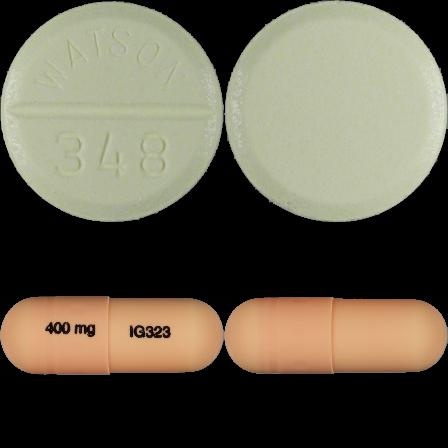63629-2585: (0, 0, 224, 224)
